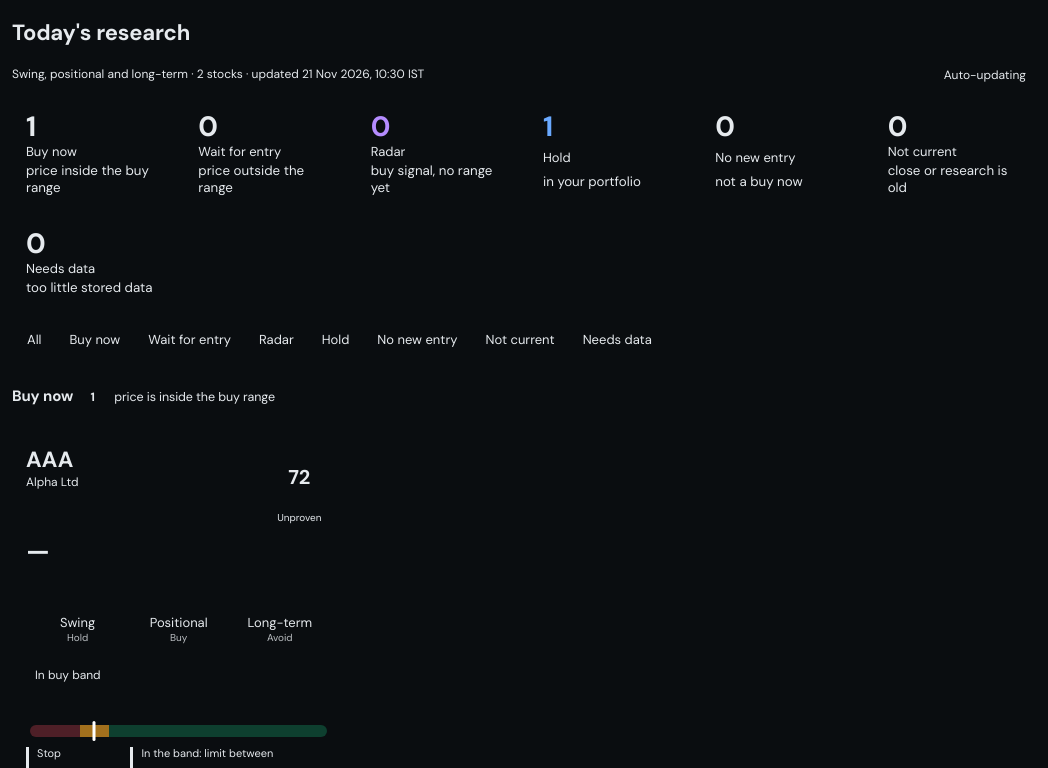
it: DailyReport · every horizon button is clickable › opens a Hold horizon and explains it instead of leaving a dead button
Click the tab "Swing Hold": click(78, 632) [29,610,126,654]
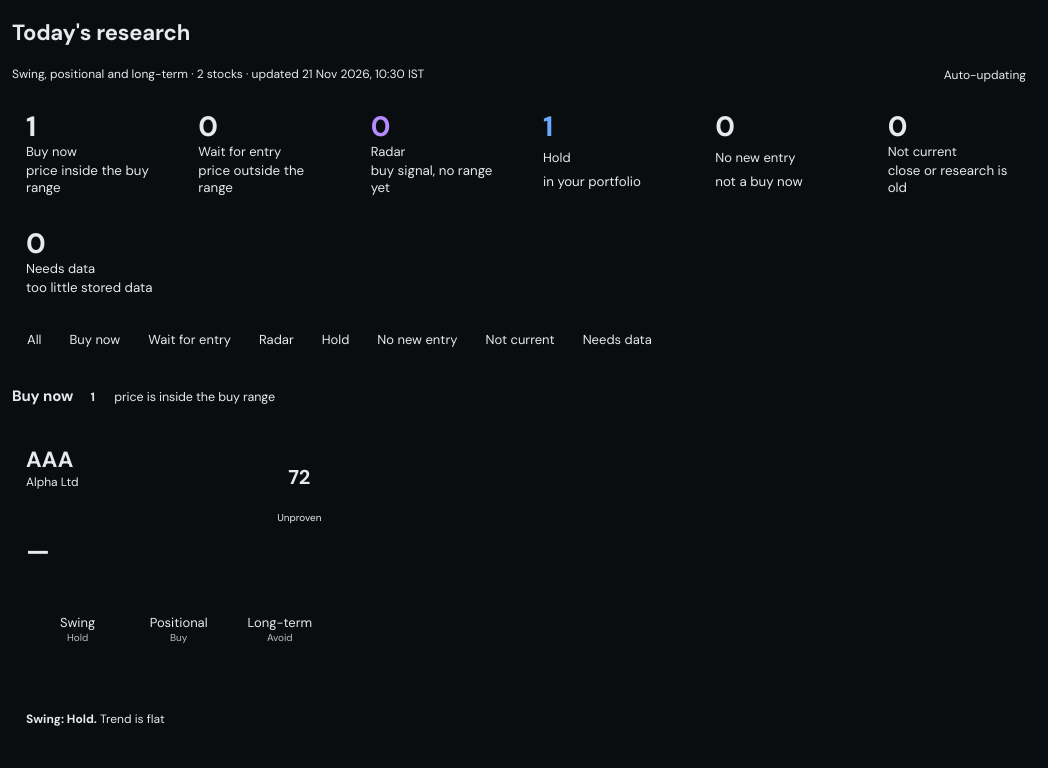
Check: the text "Swing: Hold." is shown, box [26,712,97,728]
Check: the text "Swing: Hold. Trend is flat" is shown, box [26,712,165,728]
